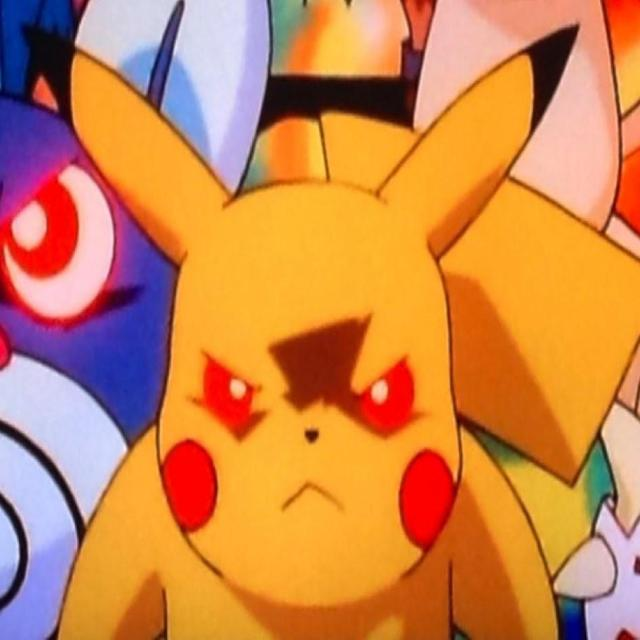pikachu: (18, 15, 598, 640)
